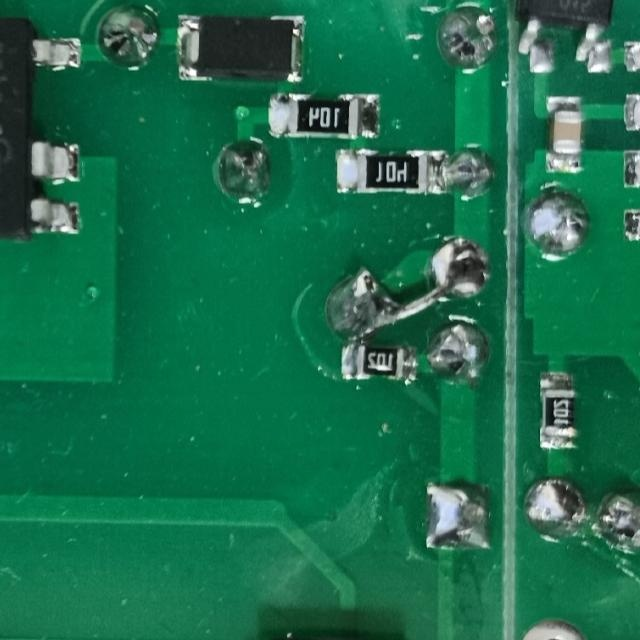chip-capacitor: (542, 95, 582, 177)
chip-resistor: (264, 90, 381, 138), (334, 147, 447, 194), (537, 370, 578, 452), (338, 344, 416, 383)
diode: (174, 13, 306, 83)
